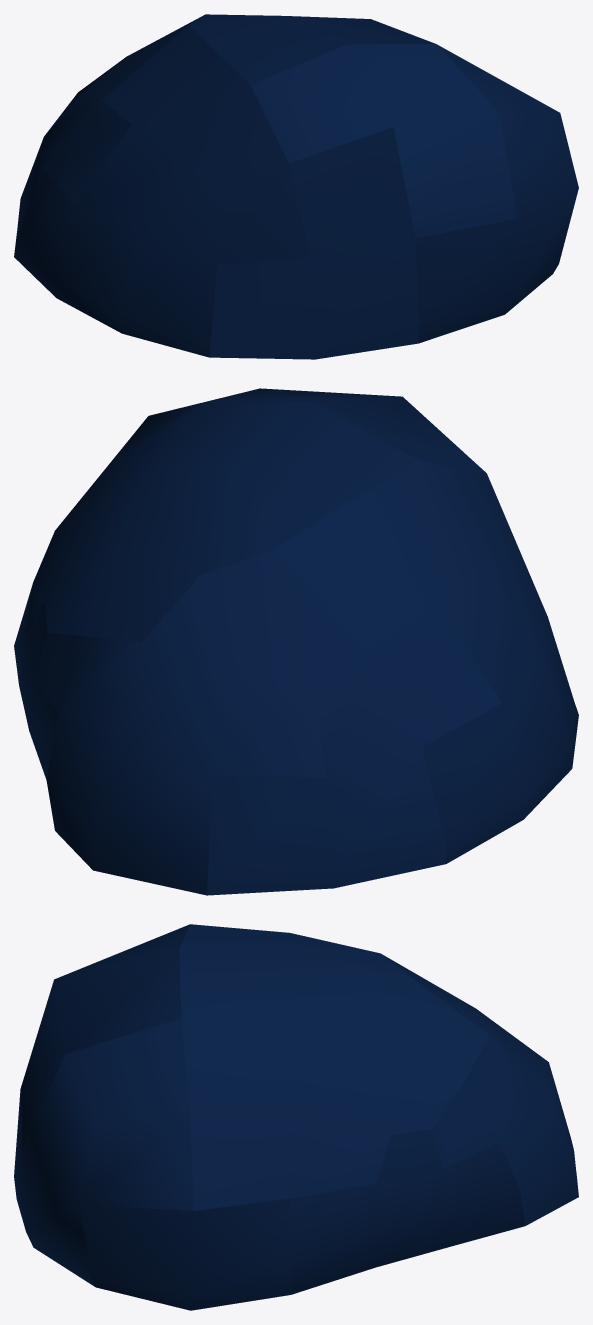
File: Rock2.fbx
The picture shows the model from 3 angles, top to bottom: view 1: azimuth 30°, elevation 25°; view 2: azimuth 150°, elevation 25°; view 3: azimuth 270°, elevation 25°; orthographic projection. The views are drawn at different scales.
Parts seen in each view (by area): view 1: Cube; view 2: Cube; view 3: Cube.
Part boxes in pixels (x1=…): Cube: x1=14, y1=14, x2=578, y2=359; Cube: x1=14, y1=388, x2=578, y2=895; Cube: x1=14, y1=924, x2=578, y2=1310.
Size of the model in its own units: 157 by 81.44 by 164.
